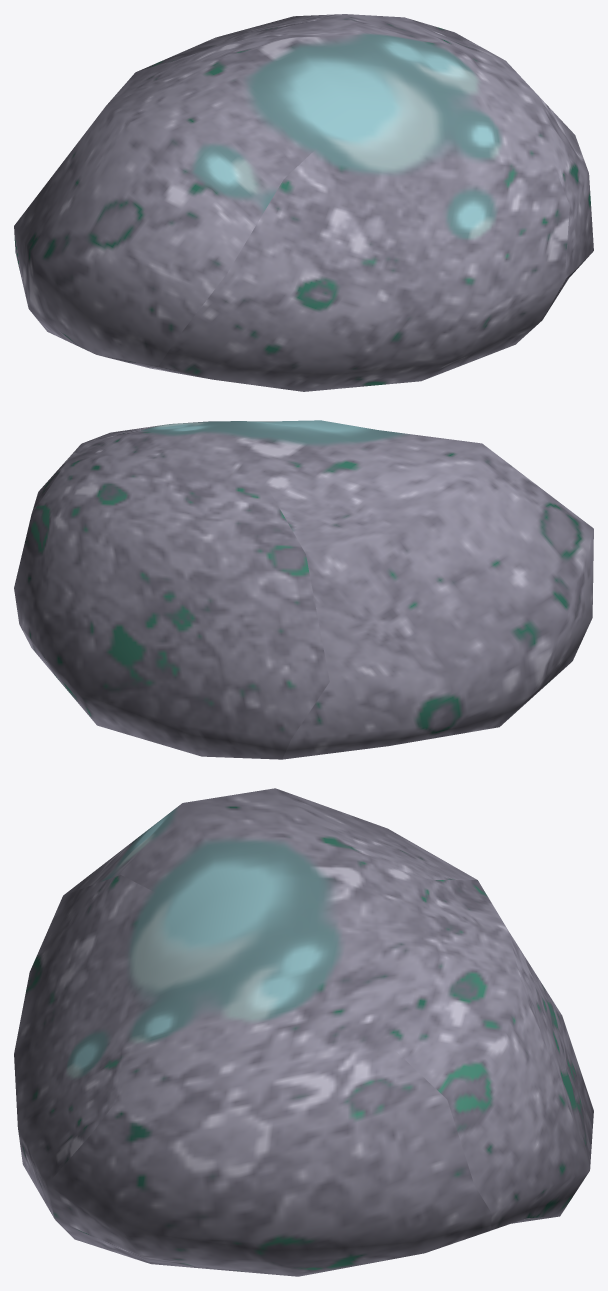
Rendered from rock_2_big.fbx.
3 renders of one model, top to bottom at view 1: azimuth 30°, elevation 25°; view 2: azimuth 150°, elevation 25°; view 3: azimuth 270°, elevation 25°, orthographic. The views are drawn at different scales.
Parts seen in each view (by area): view 1: rock_2_big; view 2: rock_2_big; view 3: rock_2_big.
Boxes of the visible parts, x1,y1,x2,y2 form: rock_2_big: [14, 14, 593, 391]; rock_2_big: [14, 420, 593, 759]; rock_2_big: [14, 788, 593, 1276].
Bounding box in the file's own units: 80.43 × 40.35 × 64.54.
